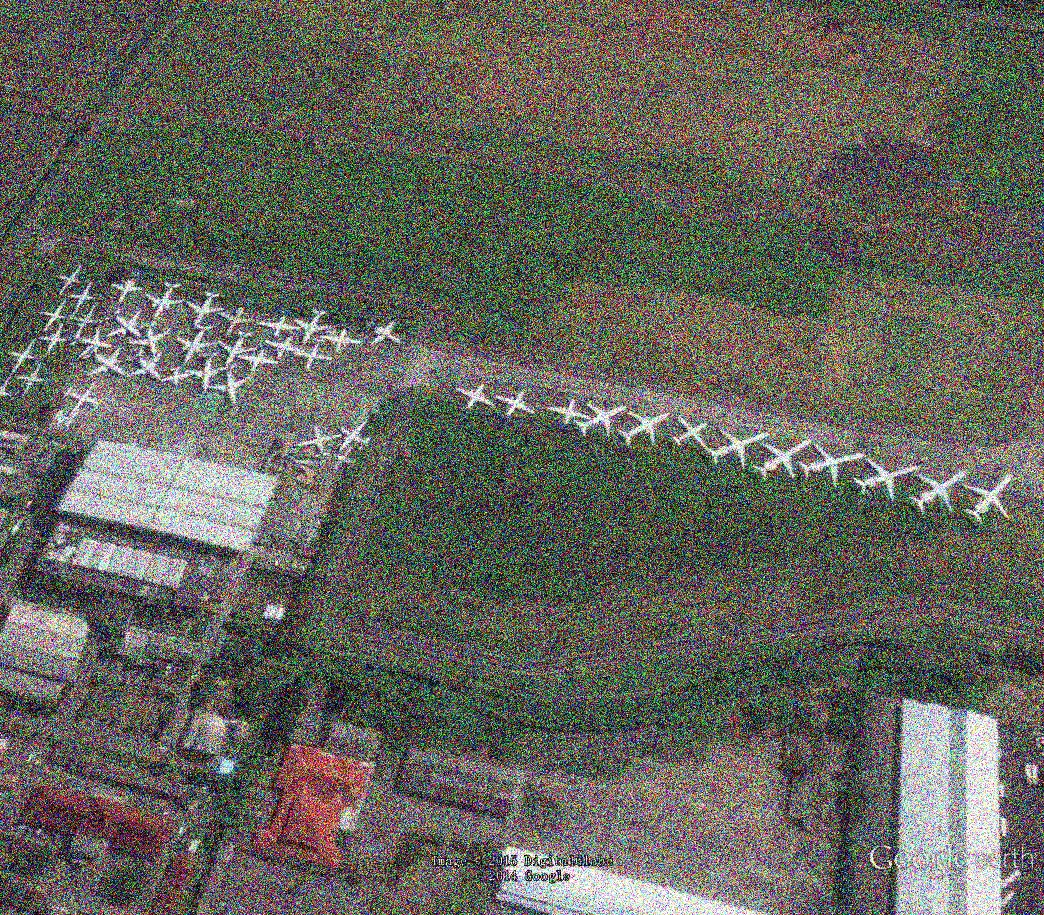aircraft: (850, 453, 926, 506), (799, 437, 869, 494), (904, 469, 974, 519), (749, 437, 818, 487), (960, 469, 1017, 529), (703, 426, 774, 472), (182, 347, 232, 396), (615, 410, 675, 450), (571, 401, 629, 442), (77, 342, 133, 382), (291, 305, 343, 348), (174, 321, 220, 368), (215, 325, 261, 372), (292, 422, 347, 460), (144, 279, 189, 324), (64, 325, 114, 362), (127, 321, 174, 359), (184, 287, 227, 328), (236, 345, 281, 382), (126, 348, 168, 386), (289, 341, 337, 374), (671, 414, 711, 453), (215, 303, 255, 341), (336, 418, 376, 456), (316, 326, 366, 356), (254, 312, 305, 341), (102, 305, 143, 341), (60, 381, 100, 417), (454, 382, 497, 414), (260, 333, 305, 363), (106, 273, 148, 305), (64, 278, 100, 315), (545, 397, 592, 425), (36, 325, 73, 360), (7, 337, 40, 376), (67, 303, 100, 342), (366, 318, 407, 349), (13, 367, 49, 400), (494, 389, 535, 417), (38, 300, 72, 333), (53, 264, 86, 296), (161, 365, 195, 391), (329, 446, 361, 471)
